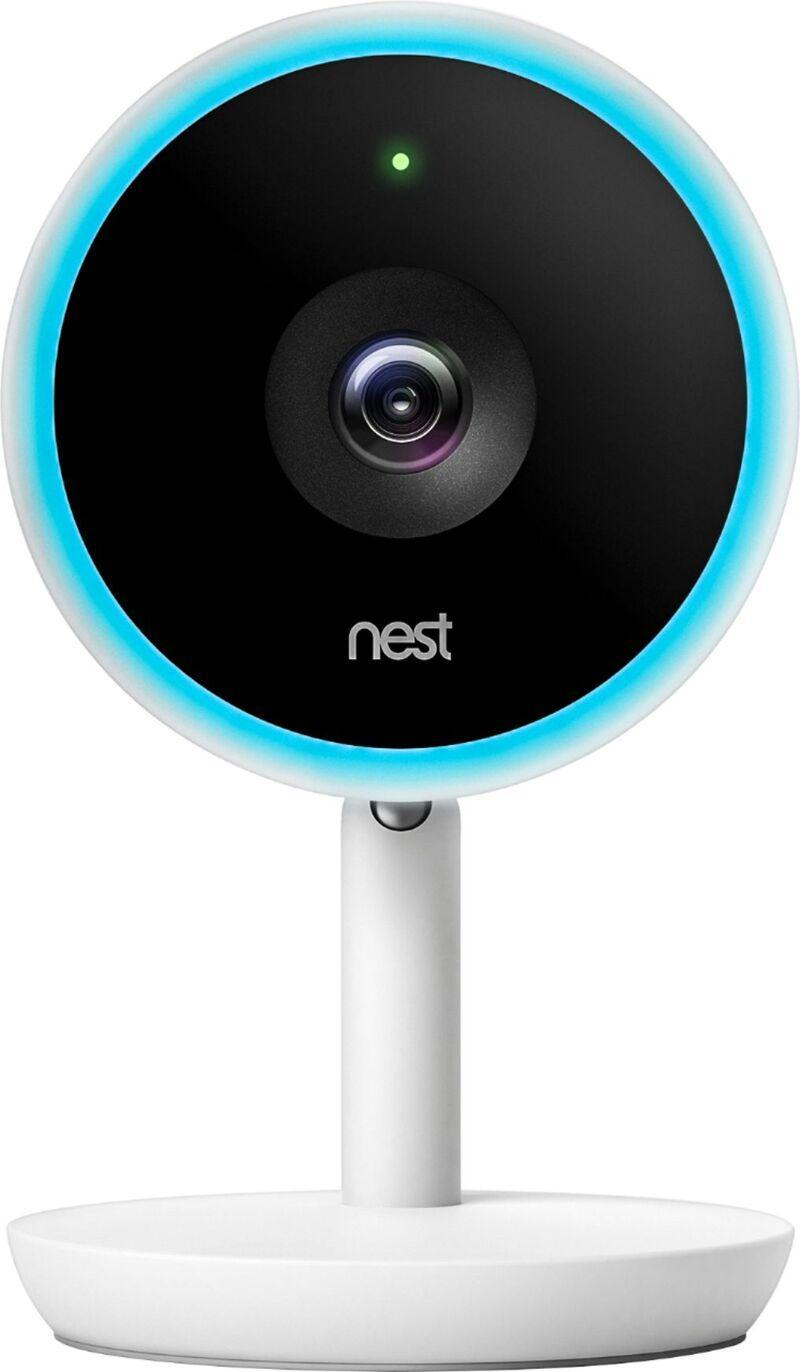nest: (0, 10, 789, 1346)
